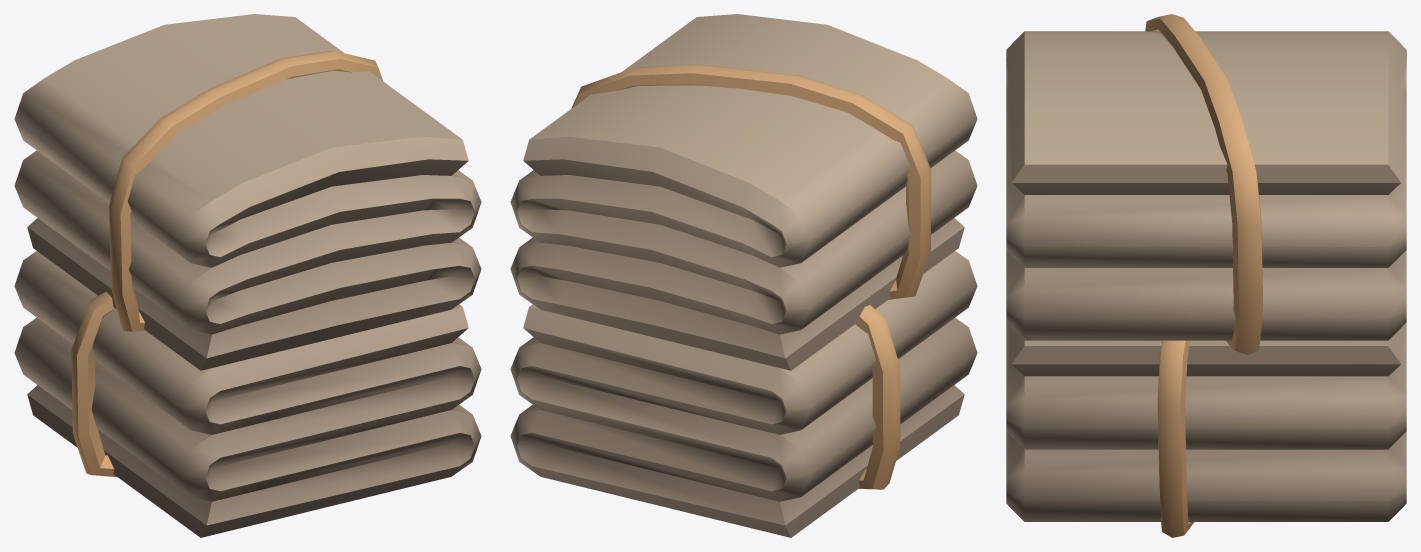
Rendered from Textiles_B.glb.
3 renders of one model, left to right at view 1: azimuth 30°, elevation 25°; view 2: azimuth 150°, elevation 25°; view 3: azimuth 270°, elevation 25°, orthographic. The views are drawn at different scales.
Visible parts, largest first — view 1: Textiles_B; view 2: Textiles_B; view 3: Textiles_B.
Part boxes in pixels (x1=…): Textiles_B: x1=14, y1=14, x2=481, y2=537; Textiles_B: x1=510, y1=14, x2=977, y2=537; Textiles_B: x1=1006, y1=14, x2=1406, y2=537.
Bounding box in the file's own units: 0.8196 × 0.9318 × 0.8.
1 material, 1 textured.
